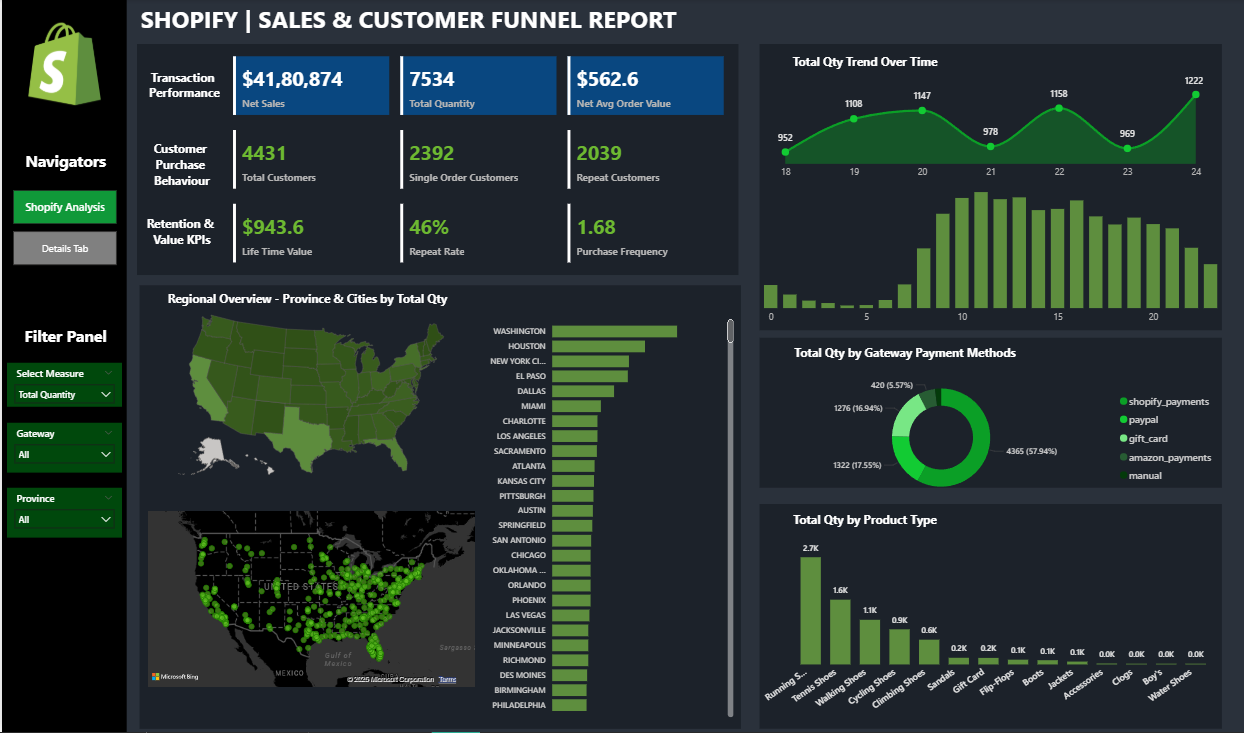

What the dashboard file says about the page in this screenshot:
{"tool":"powerbi","page":{"name":"Shopify Analysis","canvas":[1700,1000],"ordinal":0},"visuals":[{"type":"shape","box":[0,0,170,1000.5],"z":0},{"type":"textbox","box":[184.1,0,748.1,61.4],"z":1000},{"type":"shape","box":[184.1,61.4,820,315],"z":2000},{"type":"cardVisual","fields":{"Data":["shopify_sales.Net Sales","shopify_sales.Total Quantity","shopify_sales.Net Avg Order Value"]},"box":[310.2,73.3,680,90.3],"z":3000},{"type":"card","fields":{"Values":["shopify_sales.Transaction Perf"]},"box":[187.5,69.9,122.7,93.7],"z":4000},{"type":"cardVisual","fields":{"Data":["shopify_sales.Total Customers","shopify_sales.Single Order Customers","shopify_sales.Repeat Customers"]},"box":[310.2,173.8,680,90.3],"z":5000},{"type":"card","fields":{"Values":["shopify_sales.Customer Purchase Behaviour"]},"box":[184.1,180.6,122.7,83.5],"z":6000},{"type":"cardVisual","fields":{"Data":["shopify_sales.Life Time Value","shopify_sales.Repeat Rate","shopify_sales.Purchase Frequency"]},"box":[310.2,274.4,680,90.3],"z":7000},{"type":"card","fields":{"Values":["shopify_sales.Retention & Value KPIs"]},"box":[184.1,274.4,122.7,83.5],"z":8000},{"type":"shape","box":[186.7,390,820,605],"z":9000},{"type":"slicer","fields":{"Values":["Select Measure.Select Measure"]},"box":[6.8,495.6,156.8,59.6],"z":10000},{"type":"shapeMap","fields":{"Value":["shopify_sales.Total Quantity"],"Category":["shopify_sales.Billing Address Province"]},"box":[195,413.3,455,251.7],"z":11000},{"type":"map","fields":{"Category":["shopify_sales.Location"]},"box":[195,693.3,455,250],"z":12000},{"type":"clusteredBarChart","fields":{"Y":["shopify_sales.Total Quantity"],"Category":["shopify_sales.CITY"]},"box":[650,425,353.3,560],"z":13000},{"type":"card","fields":{"Values":["shopify_sales.Map Title"]},"box":[184.1,395.4,465.2,30.7],"z":14000},{"type":"shape","box":[1032.7,61.4,630.5,390.3],"z":15000},{"type":"areaChart","fields":{"Y":["shopify_sales.Total Quantity"],"Category":["shopify_sales.Invoice Date.Variation.Date Hierarchy.Day"]},"box":[1053.2,93.7,589.6,160.2],"z":16000},{"type":"columnChart","fields":{"Y":["shopify_sales.Total Quantity"],"Category":["shopify_sales.Hours"]},"box":[1032.7,242,630.5,209.6],"z":17000},{"type":"card","fields":{"Values":["shopify_sales.Trend Title"]},"box":[1032.7,69.9,288,35.8],"z":18000},{"type":"shape","box":[1032.7,461.8,630.5,204.5],"z":19000},{"type":"donutChart","fields":{"Y":["shopify_sales.Total Quantity"],"Category":["shopify_sales.Gateway"]},"box":[1032.7,507.8,630.5,180.6],"z":20000},{"type":"card","fields":{"Values":["shopify_sales.Gateway title"]},"box":[1032.7,461.8,397.1,46],"z":21000},{"type":"shape","box":[1032.7,688.5,630.5,306.8],"z":22000},{"type":"columnChart","fields":{"Y":["shopify_sales.Total Quantity"],"Category":["shopify_sales.Product Type"]},"box":[1032.7,726,630.5,262.4],"z":23000},{"type":"card","fields":{"Values":["shopify_sales.Product title"]},"box":[1039.5,688.5,274.4,46],"z":24000},{"type":"image","box":[22.2,27.3,126.1,122.7],"z":25000},{"type":"slicer","fields":{"Values":["shopify_sales.Gateway"]},"box":[6.8,577.4,156.8,68.2],"z":26000},{"type":"slicer","fields":{"Values":["shopify_sales.Billing Address Province"]},"box":[6.8,666,156.8,68.2],"z":27000},{"type":"pageNavigator","box":[15.3,260.7,141.4,104],"z":27001},{"type":"card","fields":{"Values":["shopify_sales.Navigators"]},"box":[25.6,199.4,122.7,47.7],"z":27002},{"type":"card","fields":{"Values":["shopify_sales.Filter Panel"]},"box":[25.6,438,122.7,47.7],"z":27003}]}

Visuals, with their boxes on the page's 1700x1000 design canvas (x1, y1, x2, y2). These are canvas units, not pixel positions in the 1244x733 screenshot, which may show the page scaled, cropped or inside an application window:
shape: bbox=(0, 0, 170, 1000)
textbox: bbox=(184, 0, 932, 61)
shape: bbox=(184, 61, 1004, 376)
cardVisual - shopify_sales.Net Sales x shopify_sales.Total Quantity: bbox=(310, 73, 990, 164)
card - shopify_sales.Transaction Perf: bbox=(188, 70, 310, 164)
cardVisual - shopify_sales.Total Customers x shopify_sales.Single Order Customers: bbox=(310, 174, 990, 264)
card - shopify_sales.Customer Purchase Behaviour: bbox=(184, 181, 307, 264)
cardVisual - shopify_sales.Life Time Value x shopify_sales.Repeat Rate: bbox=(310, 274, 990, 365)
card - shopify_sales.Retention & Value KPIs: bbox=(184, 274, 307, 358)
shape: bbox=(187, 390, 1007, 995)
slicer - Select Measure.Select Measure: bbox=(7, 496, 164, 555)
shapeMap - shopify_sales.Total Quantity x shopify_sales.Billing Address Province: bbox=(195, 413, 650, 665)
map - shopify_sales.Location: bbox=(195, 693, 650, 943)
clusteredBarChart - shopify_sales.Total Quantity x shopify_sales.CITY: bbox=(650, 425, 1003, 985)
card - shopify_sales.Map Title: bbox=(184, 395, 649, 426)
shape: bbox=(1033, 61, 1663, 452)
areaChart - shopify_sales.Total Quantity x shopify_sales.Invoice Date.Variation.Date Hierarchy.Day: bbox=(1053, 94, 1643, 254)
columnChart - shopify_sales.Total Quantity x shopify_sales.Hours: bbox=(1033, 242, 1663, 452)
card - shopify_sales.Trend Title: bbox=(1033, 70, 1321, 106)
shape: bbox=(1033, 462, 1663, 666)
donutChart - shopify_sales.Total Quantity x shopify_sales.Gateway: bbox=(1033, 508, 1663, 688)
card - shopify_sales.Gateway title: bbox=(1033, 462, 1430, 508)
shape: bbox=(1033, 688, 1663, 995)
columnChart - shopify_sales.Total Quantity x shopify_sales.Product Type: bbox=(1033, 726, 1663, 988)
card - shopify_sales.Product title: bbox=(1040, 688, 1314, 734)
image: bbox=(22, 27, 148, 150)
slicer - shopify_sales.Gateway: bbox=(7, 577, 164, 646)
slicer - shopify_sales.Billing Address Province: bbox=(7, 666, 164, 734)
pageNavigator: bbox=(15, 261, 157, 365)
card - shopify_sales.Navigators: bbox=(26, 199, 148, 247)
card - shopify_sales.Filter Panel: bbox=(26, 438, 148, 486)
